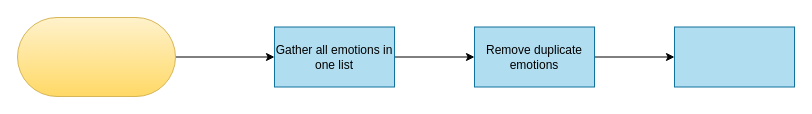
The diagram is 812 pixels wide and 114 high, and some of its shapes have lost their labels. Here are the shapes that lost their labels. From the top down, the box of each, then its label:
(16, 16, 176, 96): Create emotions radio list with JS
(674, 26, 794, 87): Render emotions as radio list in UI with DOM
